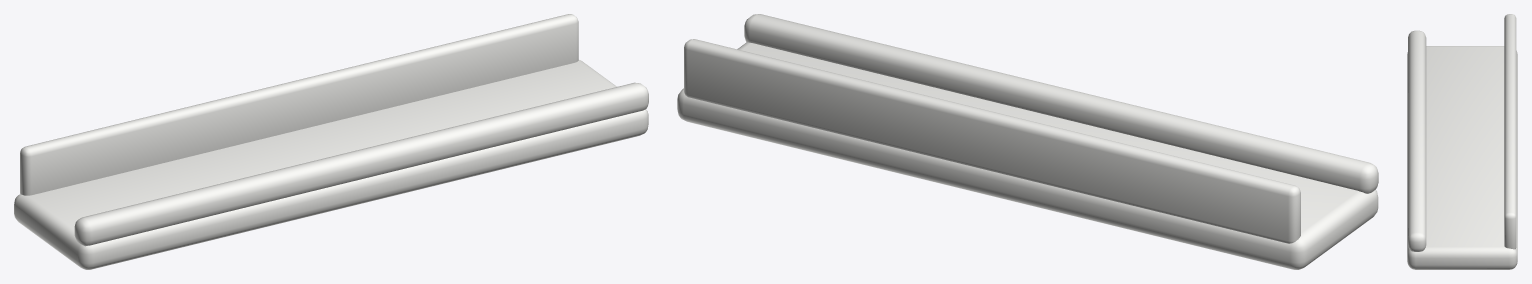
File: prateleira_parede_simples_branca.glb
3 renders of one model, left to right at view 1: azimuth 30°, elevation 25°; view 2: azimuth 150°, elevation 25°; view 3: azimuth 270°, elevation 25°, orthographic. The views are drawn at different scales.
Parts seen in each view (by area): view 1: prateleira_parede_simples_branca; view 2: prateleira_parede_simples_branca; view 3: prateleira_parede_simples_branca.
Part boxes in pixels (x1,y1,x2,y2): prateleira_parede_simples_branca: (14, 14, 648, 269); prateleira_parede_simples_branca: (677, 14, 1378, 269); prateleira_parede_simples_branca: (1407, 14, 1517, 269).
Bounding box in the file's own units: 0.8 × 0.1 × 0.18.
Materials: 1 (1 with a texture image).
